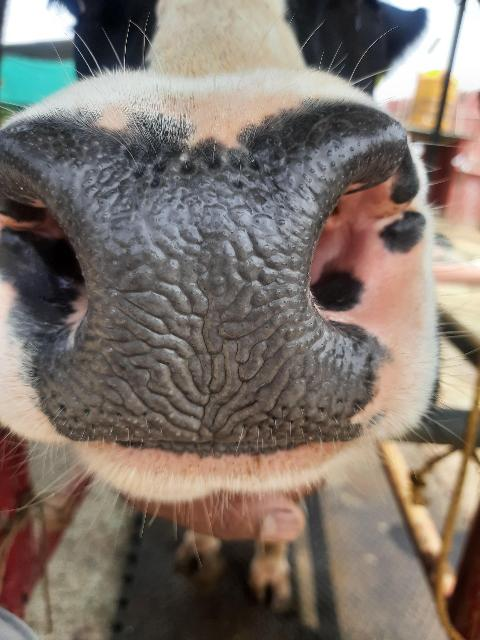Muzzle: (76, 181, 326, 431)
